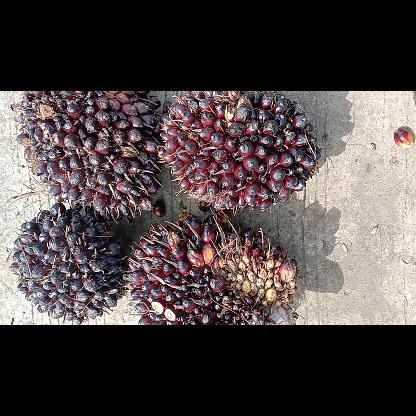TBS mentah: (125, 210, 305, 324), (158, 91, 324, 211), (10, 92, 162, 220), (7, 202, 130, 324)
